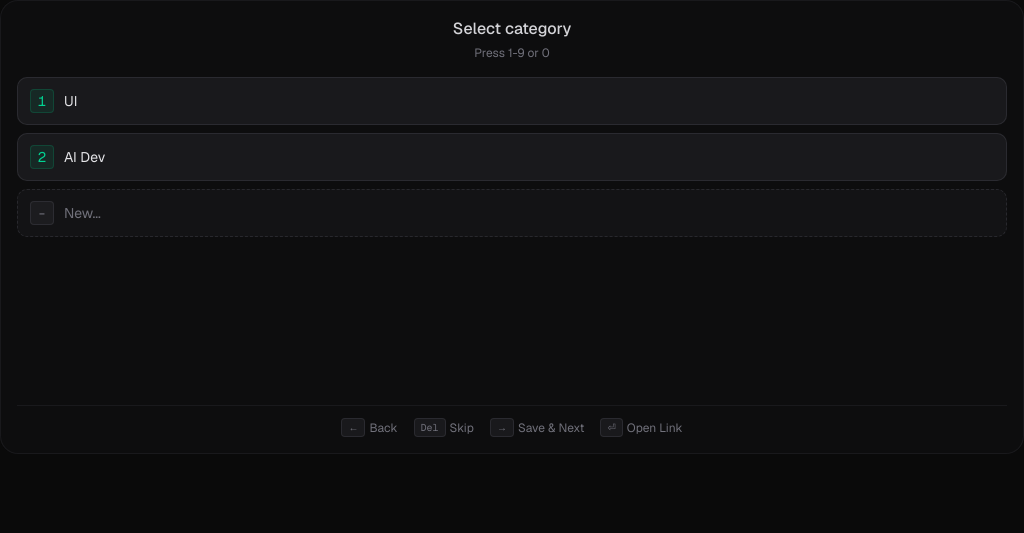
CategoryPicker › Subcategory picker › allows clicking subcategory to select
The width and height of the screenshot is (1024, 533).
Select main category UI with keyboard
Type keys "1"
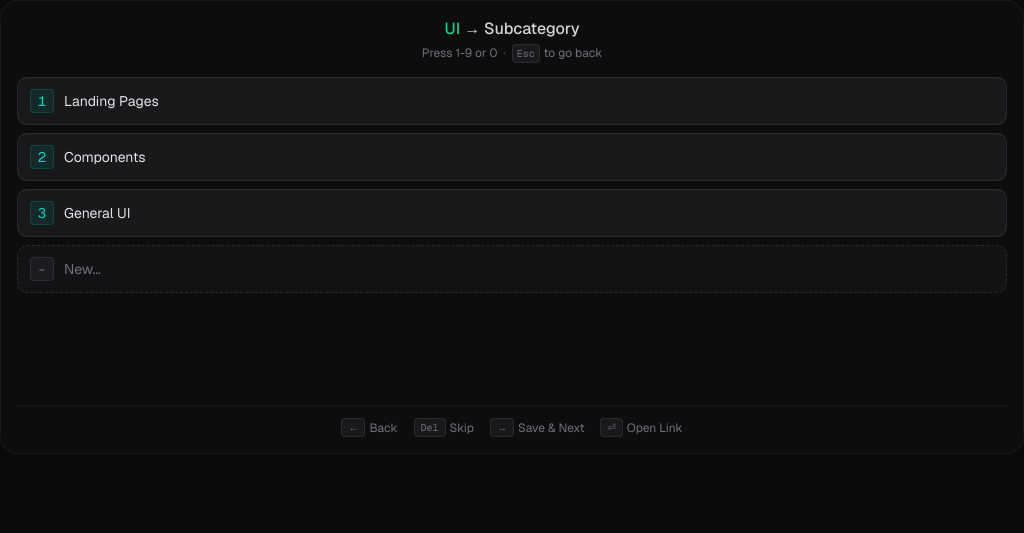
Check: the text "Components" is shown, box [64,147,146,167]
Click on Components subcategory
Click the button "2 Components" at (105, 157), box [17,133,1007,181]
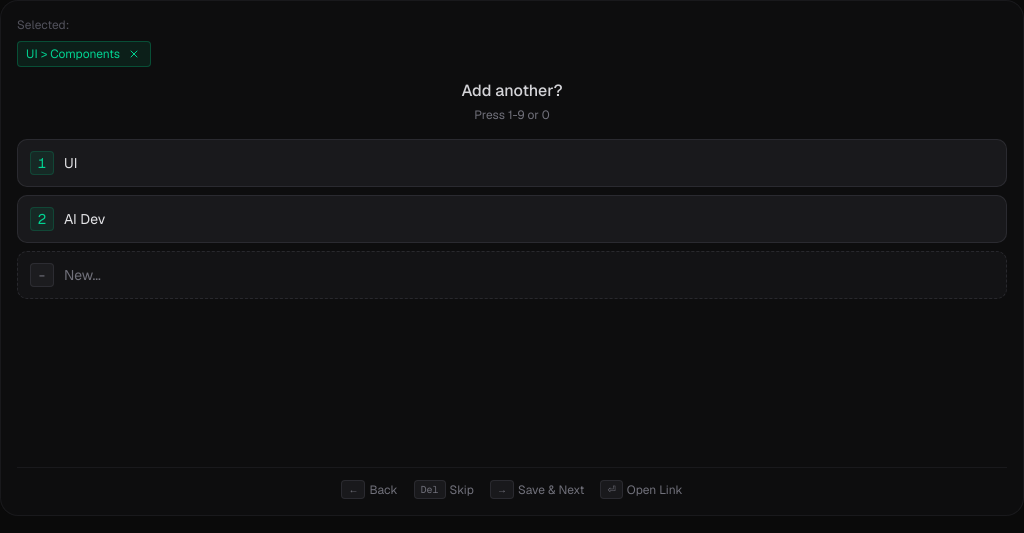
Check: the text "UI > Components" is shown, box [26,46,120,62]
